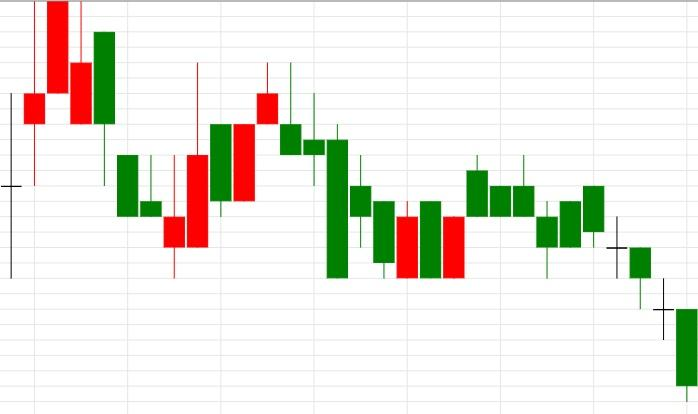bullish_engulfing_rise: (281, 62, 418, 278)
